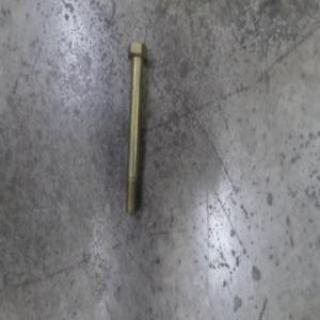Bolttrack_idkeyframe: (122, 36, 148, 216)
